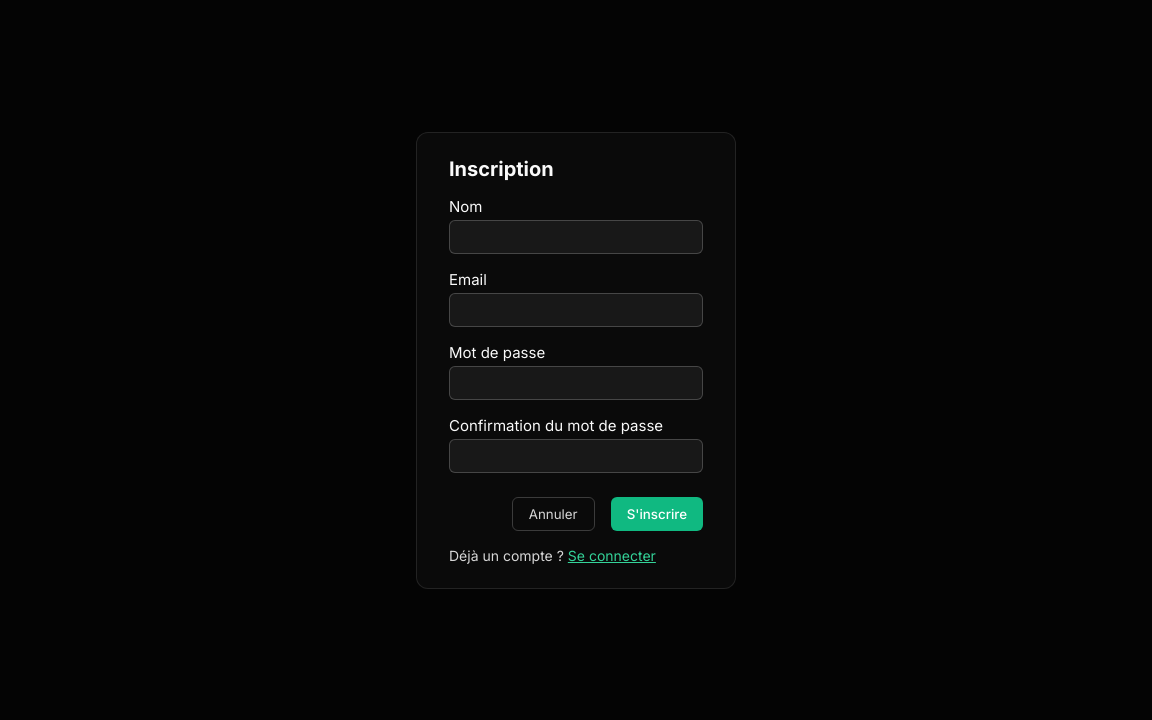
Scenario: RegisterModal › affiche une erreur si les mots de passe ne correspondent pas
Type "Test" into the field labelled "Nom" at point(576, 236), box 449,220 -> 703,254
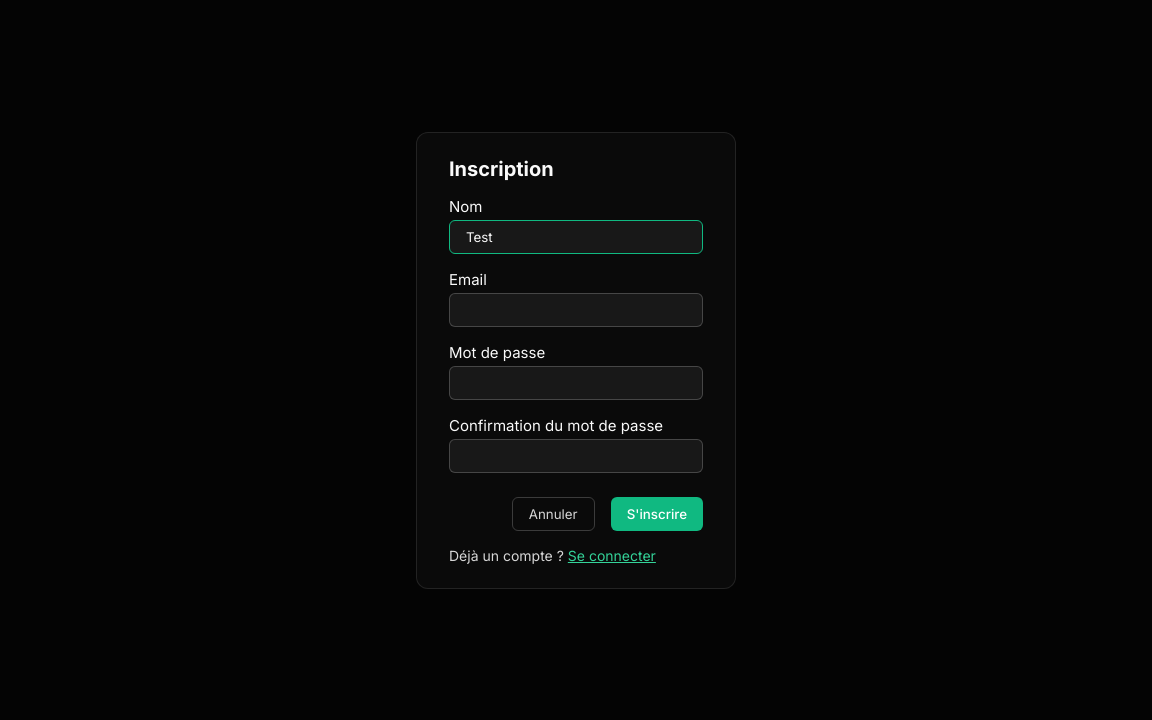
Type "test@example.com" into the field labelled "Email" at point(576, 310), box 449,292 -> 703,326
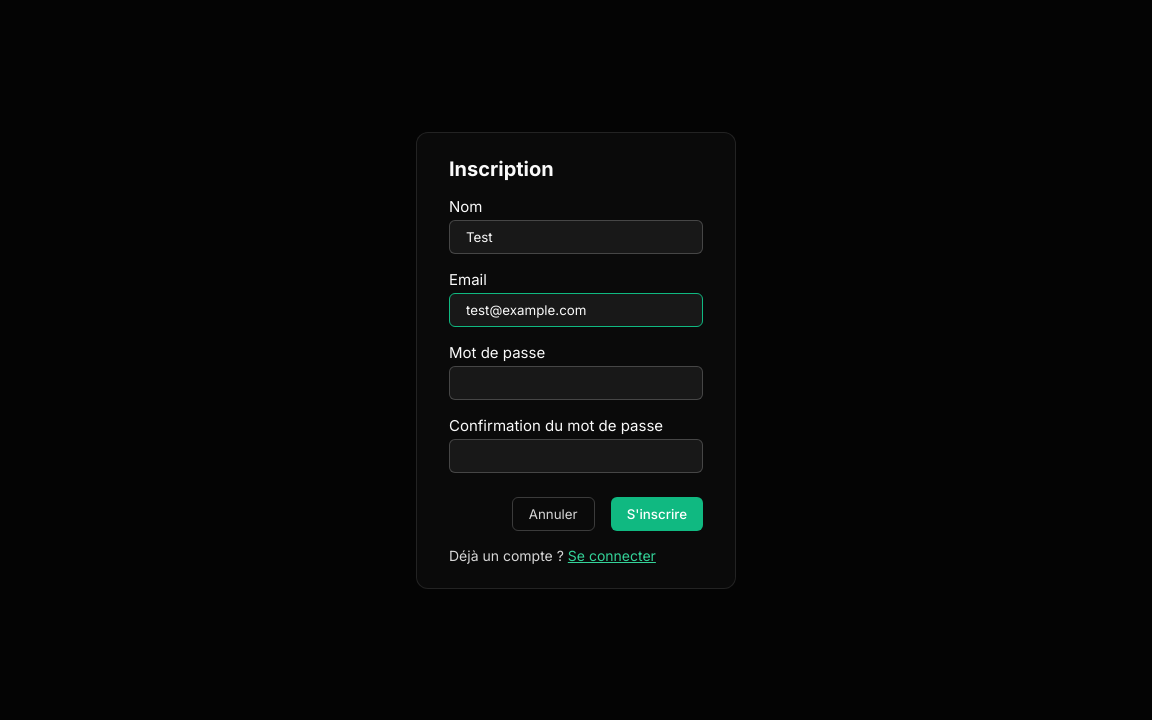
Type "secret" into the password field labelled "Mot de passe" at point(576, 382), box 449,366 -> 703,400
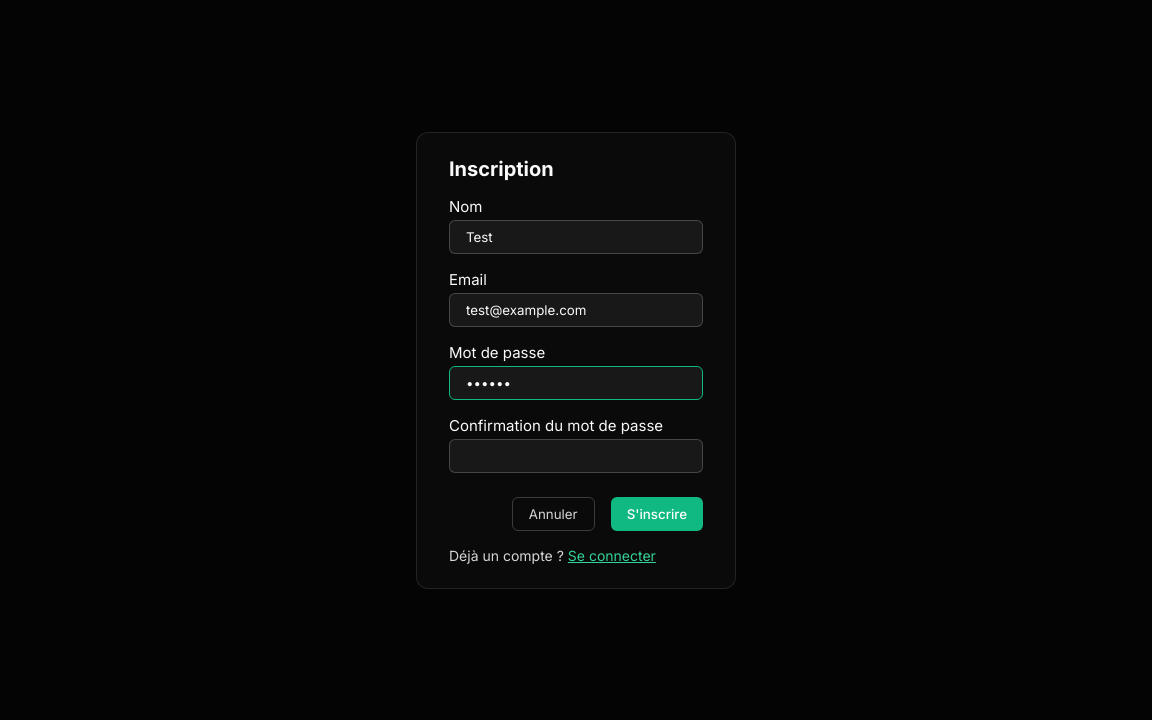
Type "different" into the password field labelled "Confirmation du mot de passe" at point(576, 456), box 449,438 -> 703,472
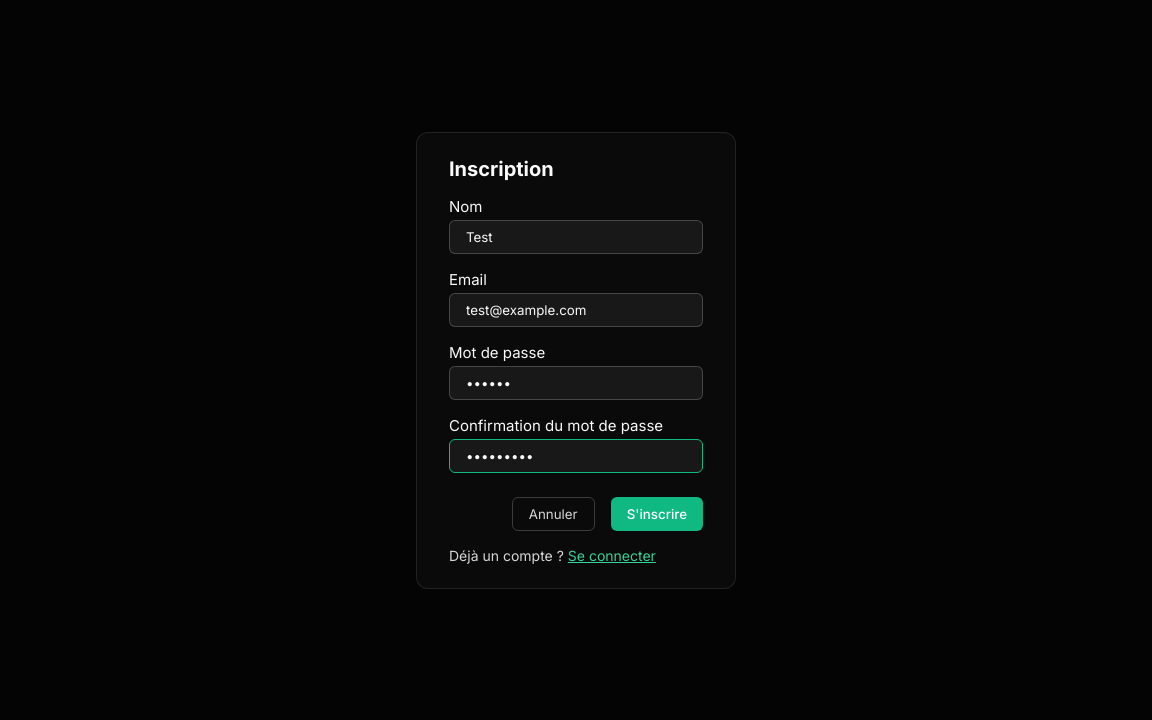
Click the button "S'inscrire" at point(657, 514), box 611,496 -> 703,530
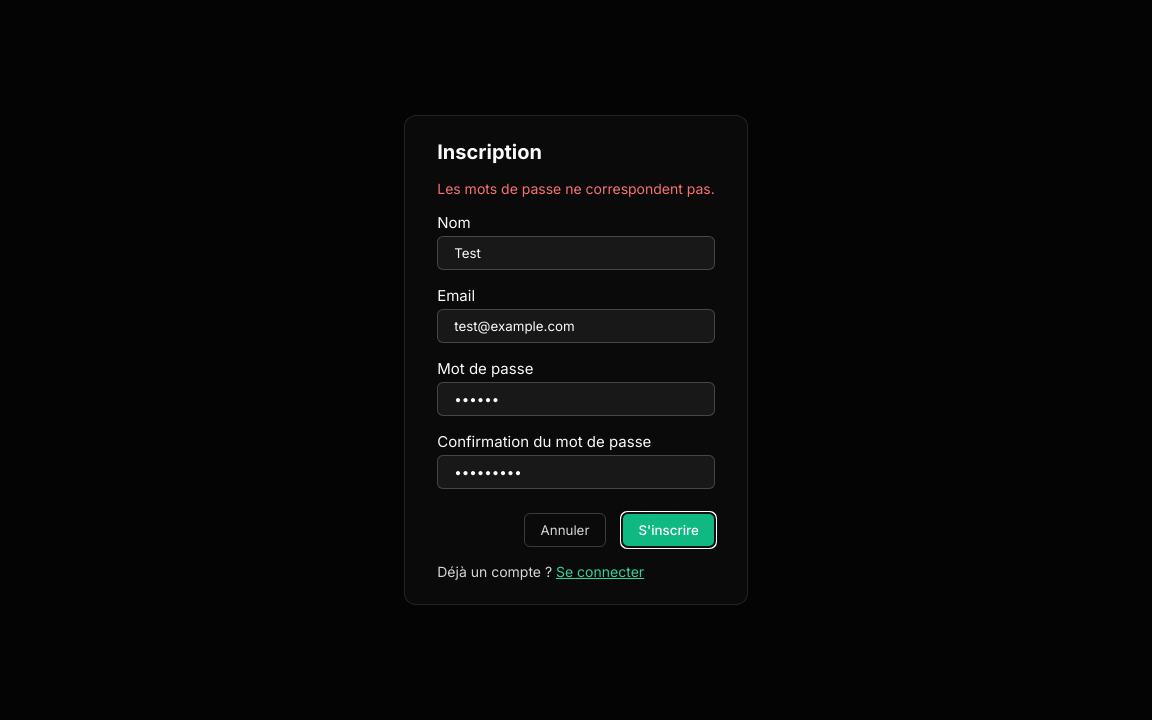
Now the text "Les mots de passe ne correspondent pas." is shown, box 437,180 -> 715,197
